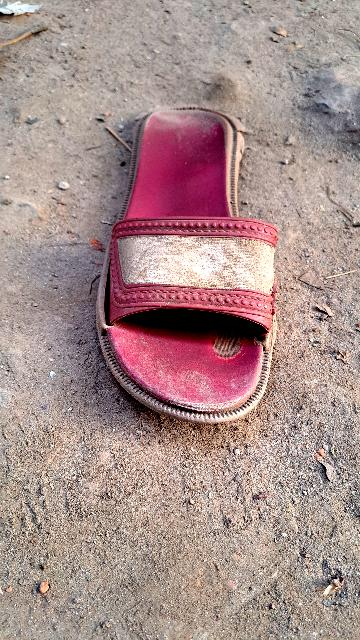sandal: (84, 106, 292, 433)
